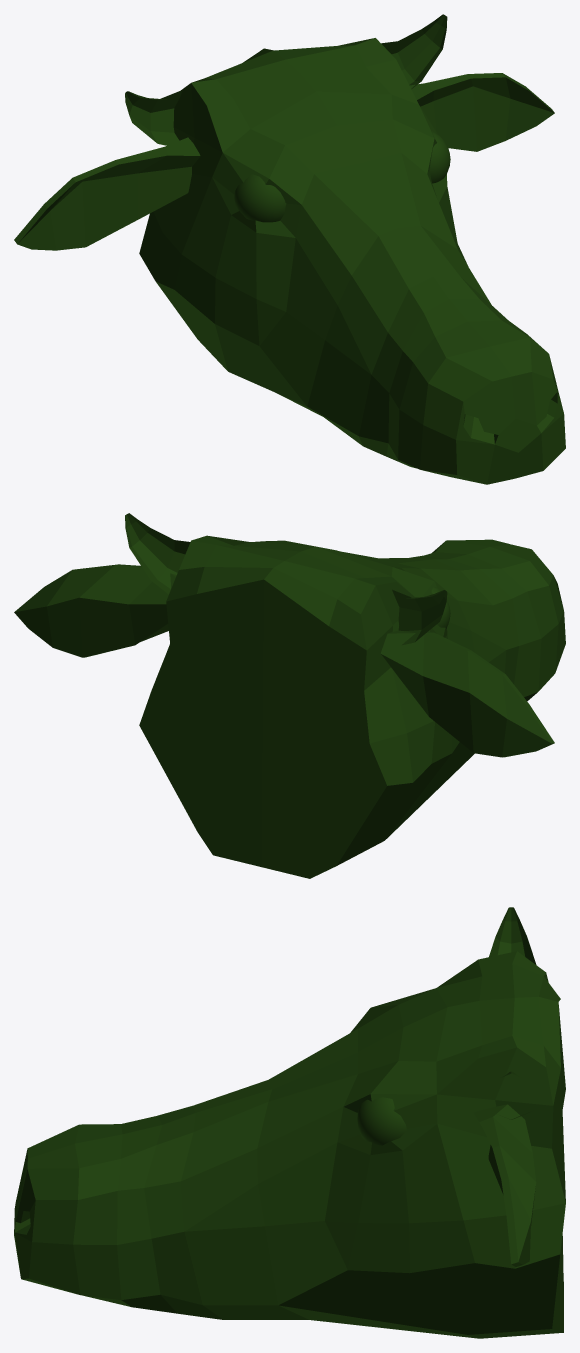
The picture shows the model from 3 angles, top to bottom: view 1: azimuth 30°, elevation 25°; view 2: azimuth 150°, elevation 25°; view 3: azimuth 270°, elevation 25°; orthographic projection. The views are drawn at different scales.
Visible parts, largest first — view 1: Cube__0, Cube.001__0, Cube.002__0, Sphere__0; view 2: Cube__0, Cube.001__0, Cube.002__0; view 3: Cube__0, Cube.001__0, Sphere__0, Cube.002__0.
Boxes of the visible parts, left/top/right/bottom form: Cube__0: left=139, top=38, right=565, bottom=484; Cube.001__0: left=14, top=73, right=554, bottom=250; Cube.002__0: left=125, top=14, right=447, bottom=145; Sphere__0: left=234, top=131, right=450, bottom=222; Cube__0: left=139, top=535, right=565, bottom=878; Cube.001__0: left=14, top=564, right=554, bottom=757; Cube.002__0: left=125, top=513, right=447, bottom=645; Cube__0: left=14, top=951, right=565, bottom=1338; Cube.001__0: left=474, top=1104, right=536, bottom=1266; Sphere__0: left=357, top=1097, right=406, bottom=1145; Cube.002__0: left=489, top=907, right=536, bottom=1119.
Bounding box in the file's own units: 669 × 355 × 555.
